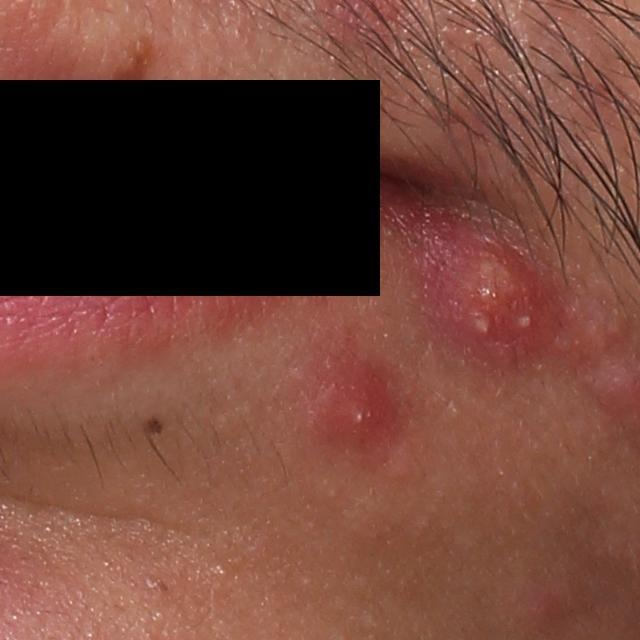nevus: (101, 31, 178, 85), (143, 412, 170, 440)
nodule: (401, 203, 570, 391)
papule: (304, 351, 416, 472)
